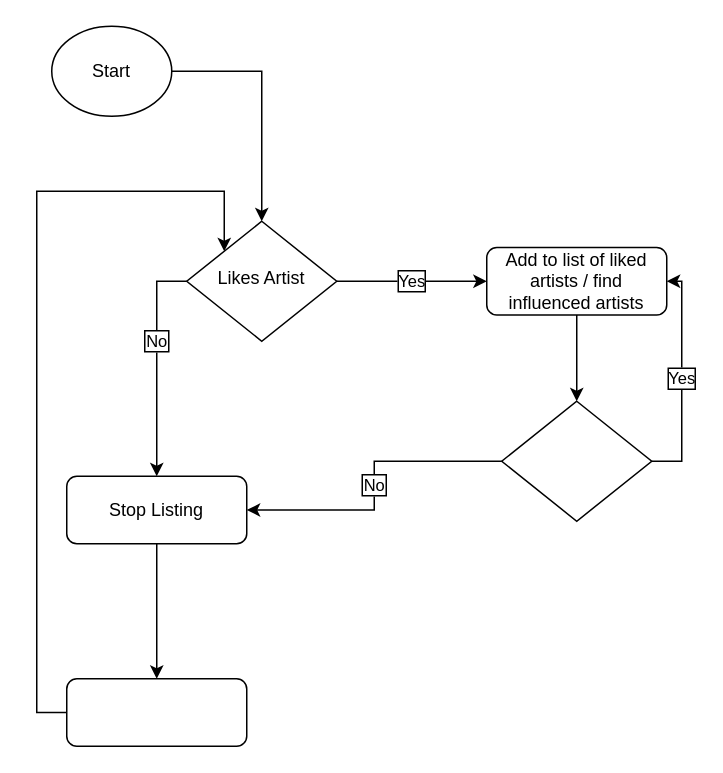
The diagram is 723 pixels wide and 773 high, and some of its shapes have lost their labels. The centre of each missing label's shape, as x and y in pixels:
"Find Different artist" belongs at (156,711).
"Likes Influenced artist" belongs at (576,460).
